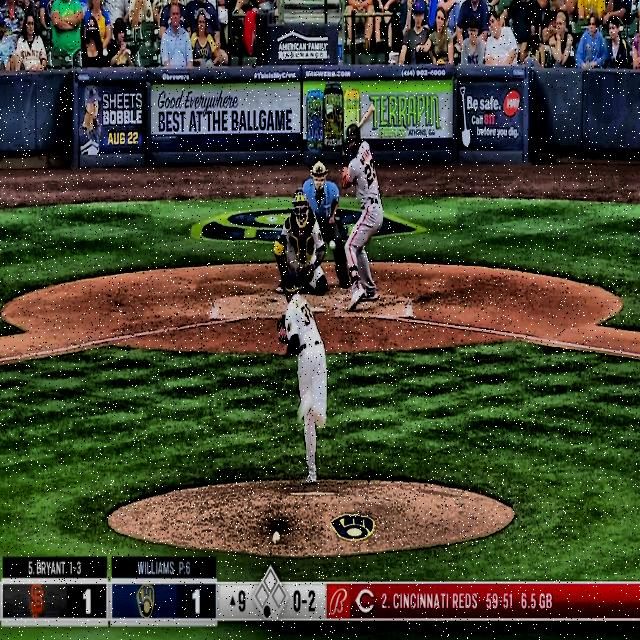baseball: (329, 238, 337, 252)
